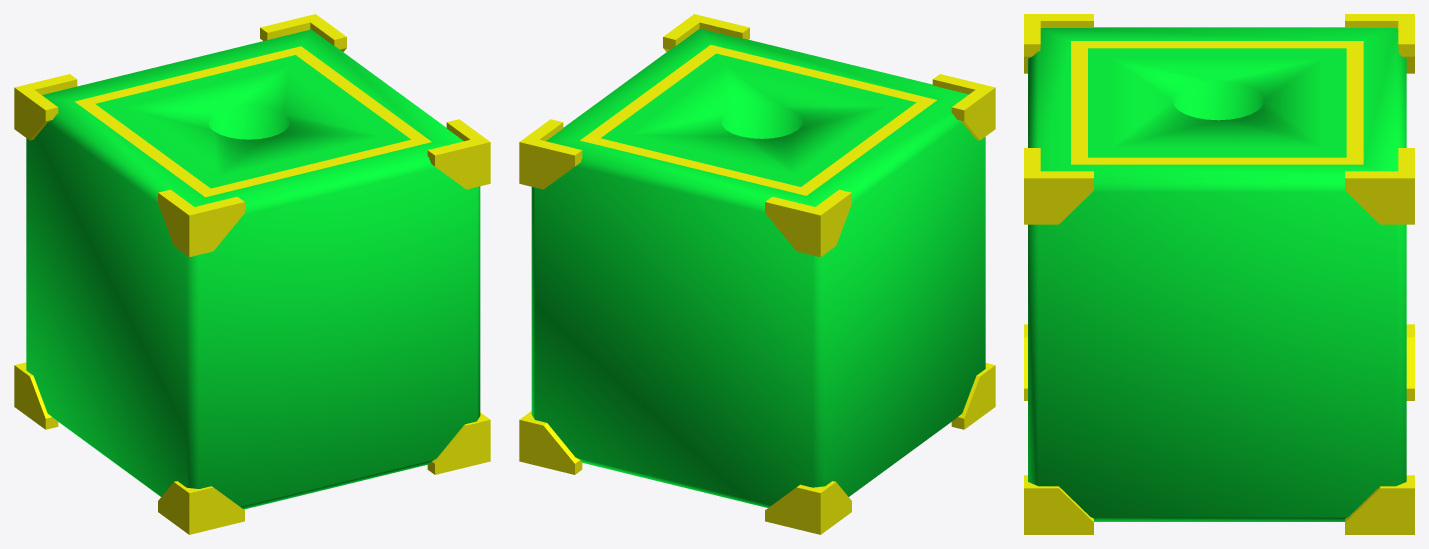
The model's file is MachineBossSnowBlock.fbx.
3 renders of one model, left to right at view 1: azimuth 30°, elevation 25°; view 2: azimuth 150°, elevation 25°; view 3: azimuth 270°, elevation 25°, orthographic. The views are drawn at different scales.
Parts seen in each view (by area): view 1: Cube.000, Cube.001; view 2: Cube.000, Cube.001; view 3: Cube.000, Cube.001.
Part boxes in pixels (x1,y1,x2,y2): Cube.000: (26, 29, 480, 509); Cube.001: (14, 14, 490, 534); Cube.000: (531, 28, 985, 507); Cube.001: (519, 14, 995, 534); Cube.000: (1028, 27, 1406, 521); Cube.001: (1024, 14, 1414, 534).
Size of the model in its own units: 30780 by 31189 by 30956.
Materials: 2 (2 with a texture image).
